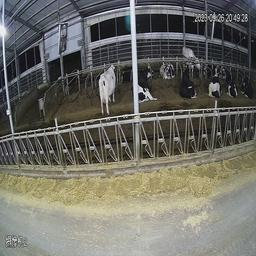cow: (94, 56, 122, 119), (138, 57, 163, 107), (176, 62, 203, 102), (180, 40, 204, 79), (224, 65, 244, 102), (206, 63, 226, 98), (159, 49, 178, 83)
